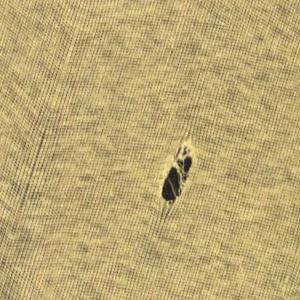hole: (158, 140, 195, 206)
